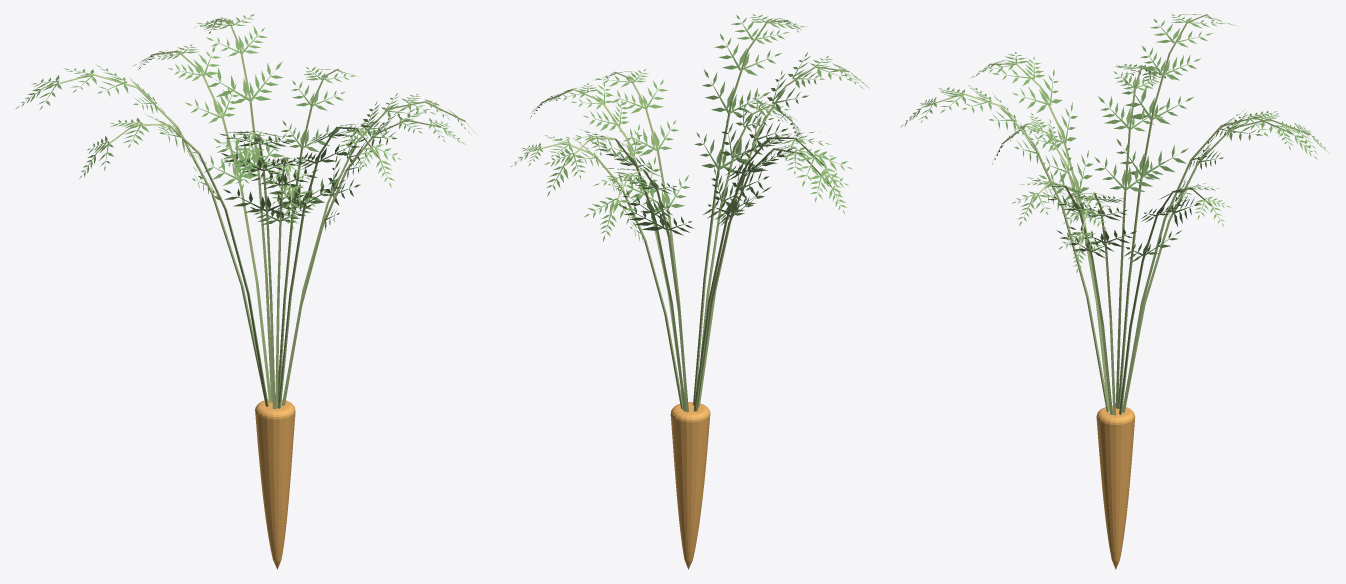
Rendered from carrot_harvest_v21.glb.
3 renders of one model, left to right at view 1: azimuth 30°, elevation 25°; view 2: azimuth 150°, elevation 25°; view 3: azimuth 270°, elevation 25°, orthographic. The views are drawn at different scales.
Visible parts, largest first — view 1: plant; view 2: plant; view 3: plant.
Boxes of the visible parts, left/top/right/bottom form: plant: left=15, top=14, right=477, bottom=569; plant: left=511, top=14, right=869, bottom=569; plant: left=900, top=14, right=1329, bottom=569.
Bounding box in the file's own units: 0.393 × 0.4829 × 0.3938.
Materials: 1 (1 with a texture image).
